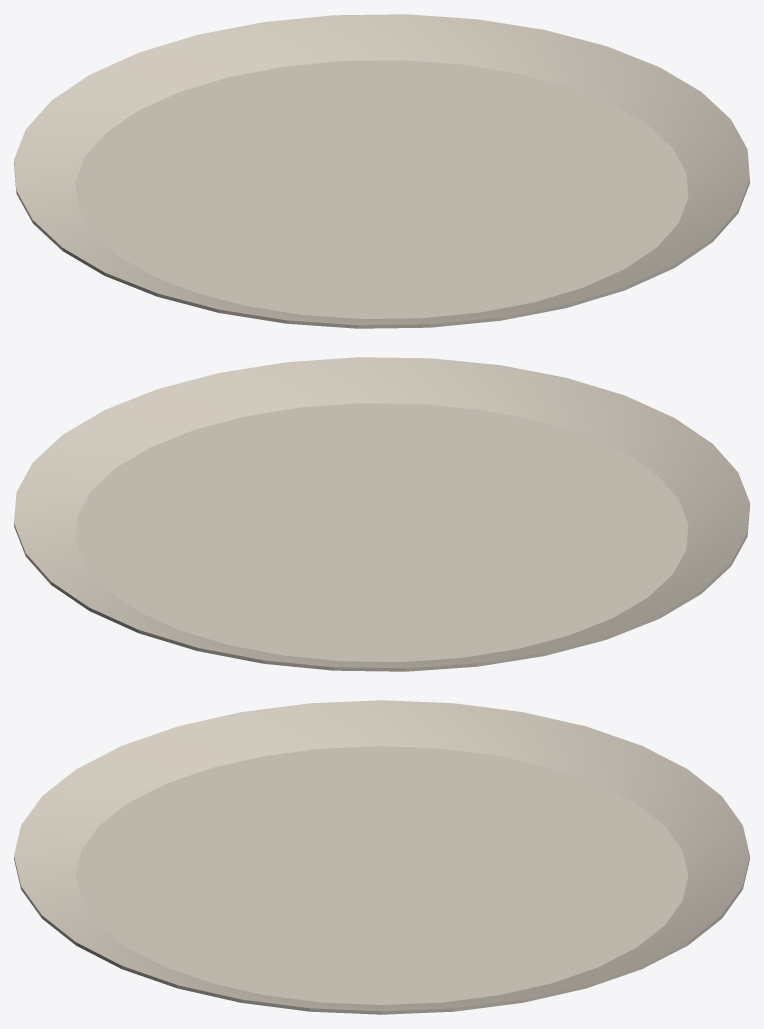
Rendered from Plate2.fbx.
3 views of the same model, one above another, from view 1: azimuth 30°, elevation 25°; view 2: azimuth 150°, elevation 25°; view 3: azimuth 270°, elevation 25° (orthographic).
Parts seen in each view (by area): view 1: Plate2; view 2: Plate2; view 3: Plate2.
Part boxes in pixels (x1=…): Plate2: x1=14, y1=14, x2=749, y2=328; Plate2: x1=14, y1=357, x2=749, y2=671; Plate2: x1=14, y1=700, x2=749, y2=1014.
Size of the model in its own units: 20 by 0.6965 by 20.
Materials: 1 (1 with a texture image).
